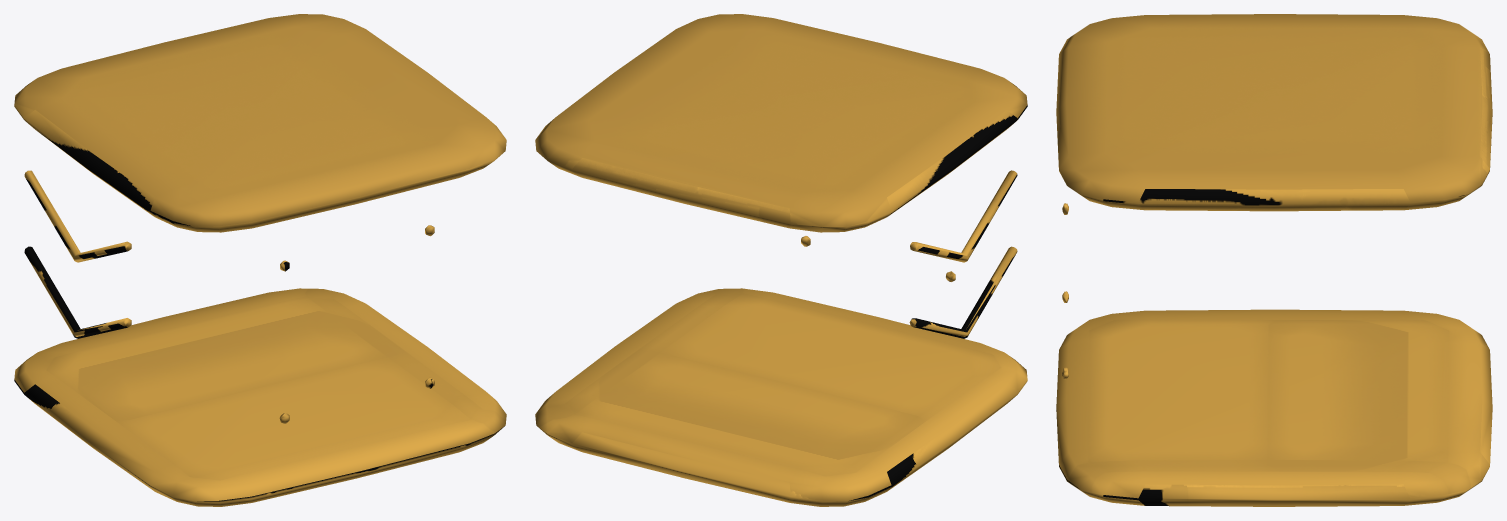
File: Centinela_BrazaleteDer_Oro.fbx
3 views of the same model, side by side, from view 1: azimuth 30°, elevation 25°; view 2: azimuth 150°, elevation 25°; view 3: azimuth 270°, elevation 25° (orthographic). The views are drawn at different scales.
Parts seen in each view (by area): view 1: Centinela_BrazaleteDer_Oro; view 2: Centinela_BrazaleteDer_Oro; view 3: Centinela_BrazaleteDer_Oro.
Boxes of the visible parts, <box> form: Centinela_BrazaleteDer_Oro: <box>14,14,506,506</box>; Centinela_BrazaleteDer_Oro: <box>535,14,1027,506</box>; Centinela_BrazaleteDer_Oro: <box>1056,14,1492,506</box>.
Size of the model in its own units: 1.25 by 0.9909 by 1.21.
